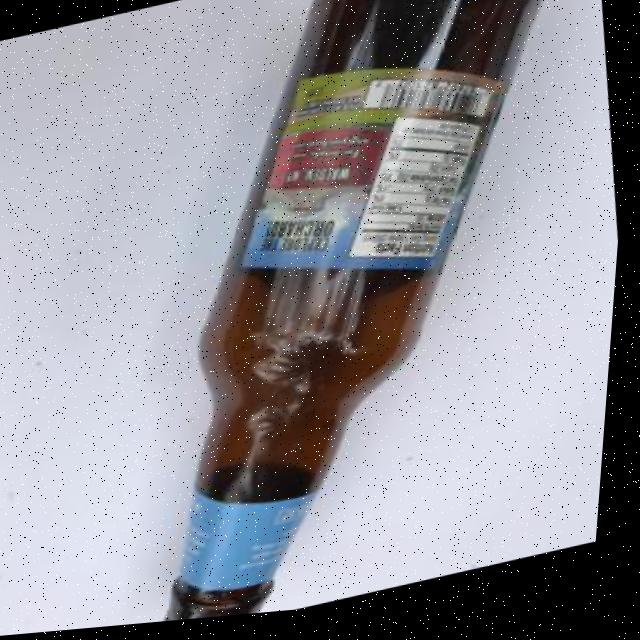glass: (73, 0, 634, 632)
